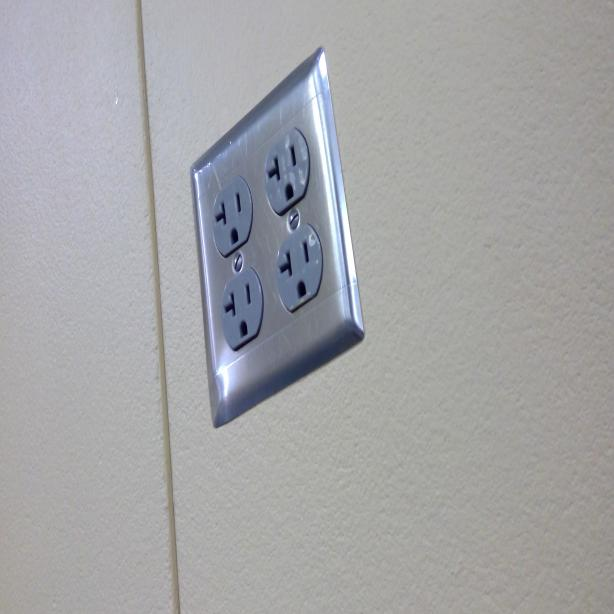typeb: (277, 237, 324, 305), (221, 279, 262, 347), (267, 144, 308, 202), (214, 188, 252, 247)
